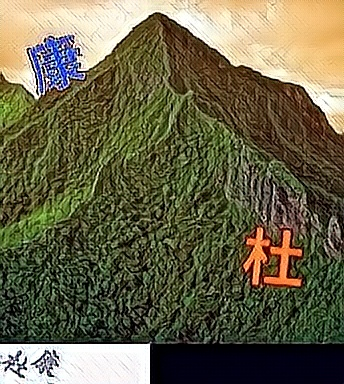B6C5: (242, 229, 302, 293)
BFB5: (26, 33, 86, 97)
